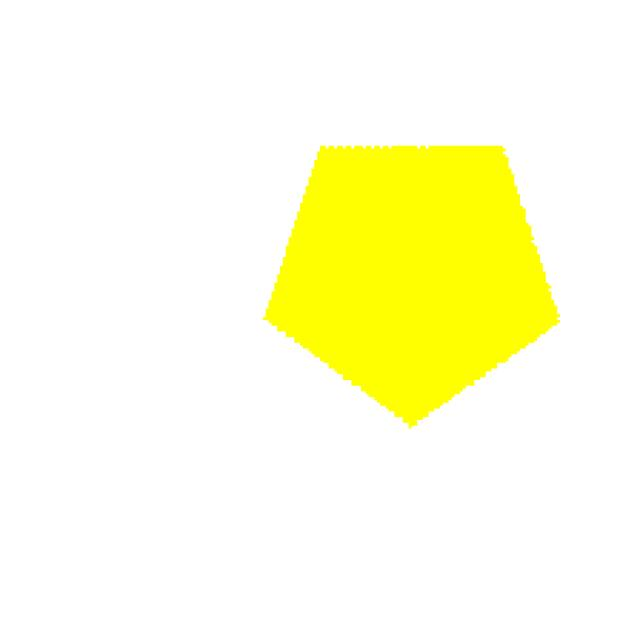Pentagon: (253, 116, 581, 440)
